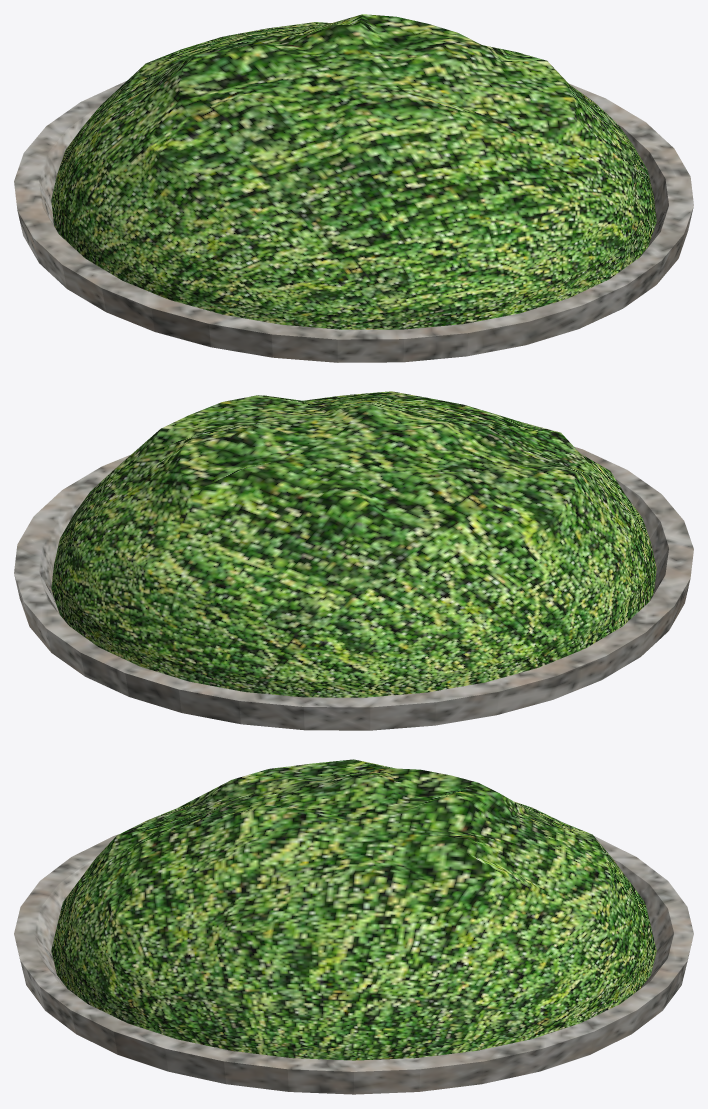
File: Isle.fbx
The picture shows the model from 3 angles, top to bottom: view 1: azimuth 30°, elevation 25°; view 2: azimuth 150°, elevation 25°; view 3: azimuth 270°, elevation 25°; orthographic projection. The views are drawn at different scales.
Visible parts, largest first — view 1: Sphere; view 2: Sphere; view 3: Sphere.
Boxes of the visible parts, <box> form: Sphere: <box>14,14,693,362</box>; Sphere: <box>14,391,693,730</box>; Sphere: <box>14,759,693,1094</box>.
Size of the model in its own units: 1473 by 343 by 1531.
